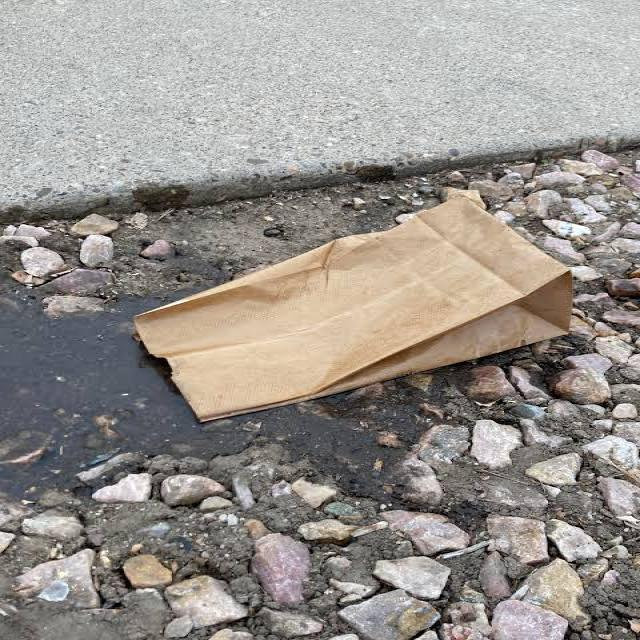paper: (127, 186, 601, 423)
